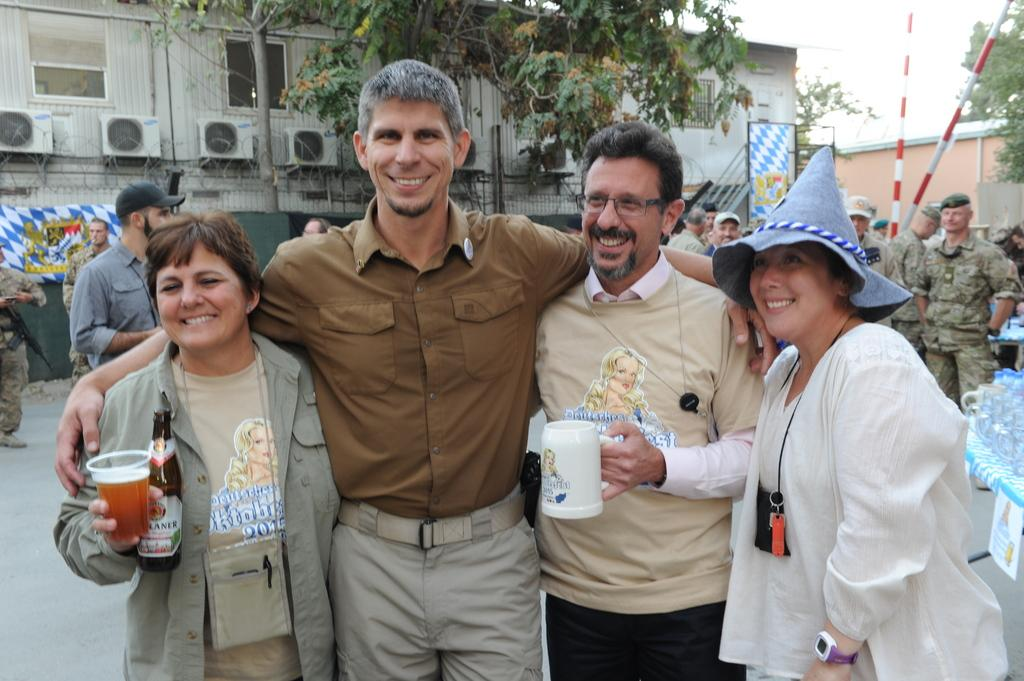Hat: (710, 140, 919, 326), (114, 183, 184, 219), (840, 194, 874, 223), (716, 210, 742, 226)
